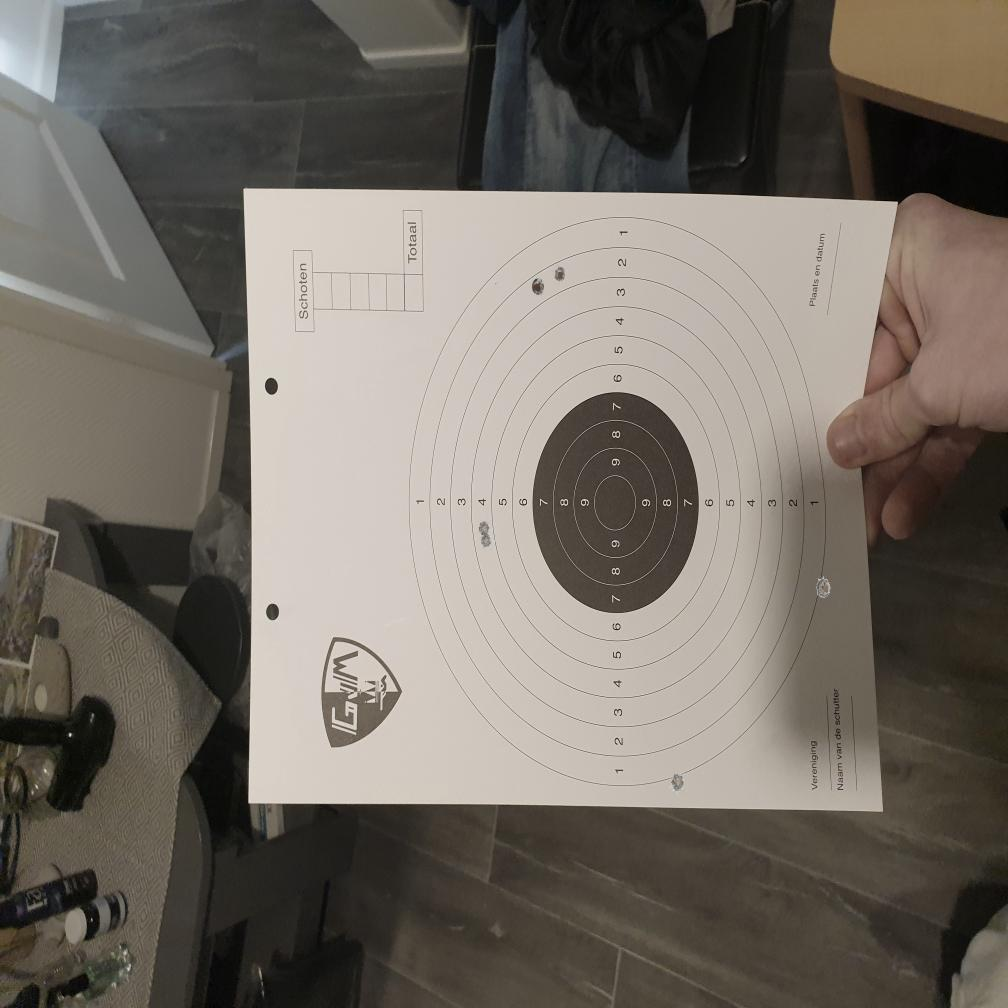1: (669, 771, 685, 794), (816, 575, 831, 599)
2: (531, 277, 544, 296), (554, 265, 565, 282)
4: (477, 520, 493, 534)
5: (480, 536, 497, 550)
Target: (407, 211, 828, 785)
black_contour: (532, 392, 699, 612)
